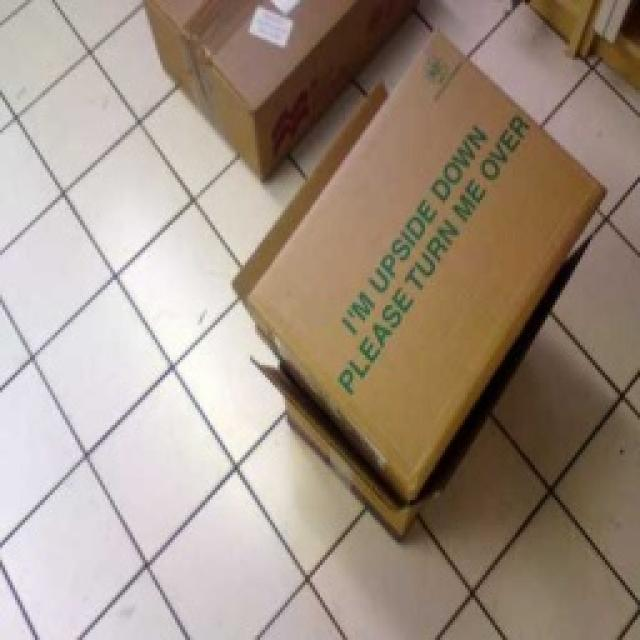box: (227, 73, 613, 533), (146, 0, 420, 145)
